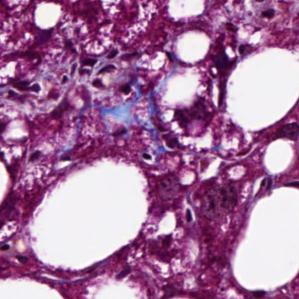inflammation: (55, 46, 122, 93), (160, 94, 222, 142), (0, 78, 47, 113)
